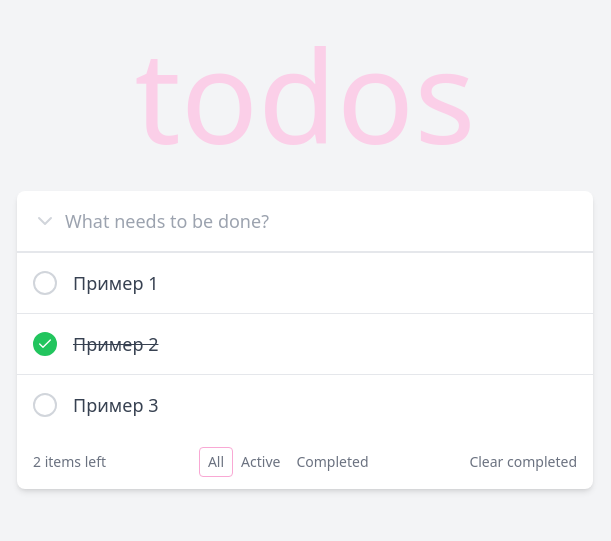
adds a new todo
Type "New Todo" into the field with placeholder "What needs to be done?" at (321, 221), box x1=65 y1=191 x2=577 y2=251
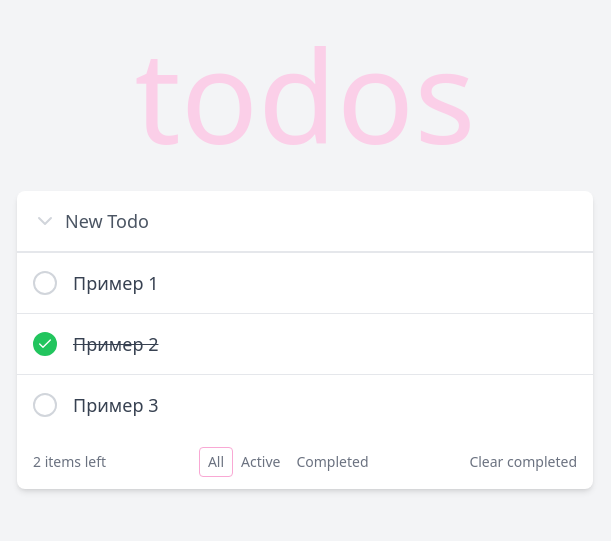
Submit the form from the field with placeholder "What needs to be done?", box x1=65 y1=191 x2=577 y2=251
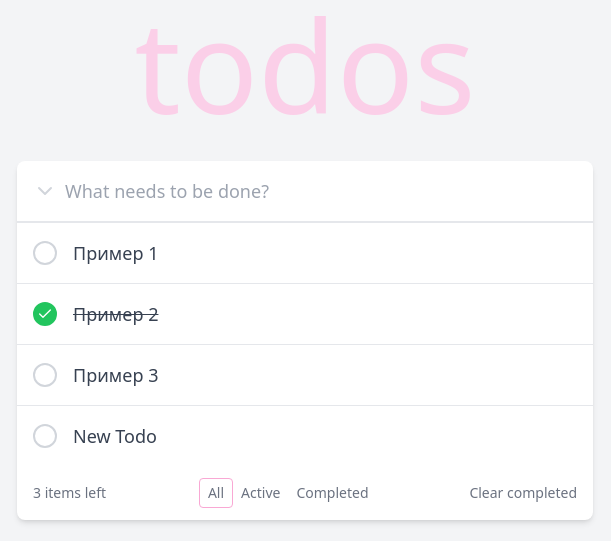
Check: the text "New Todo" is shown, box x1=73 y1=422 x2=157 y2=450
